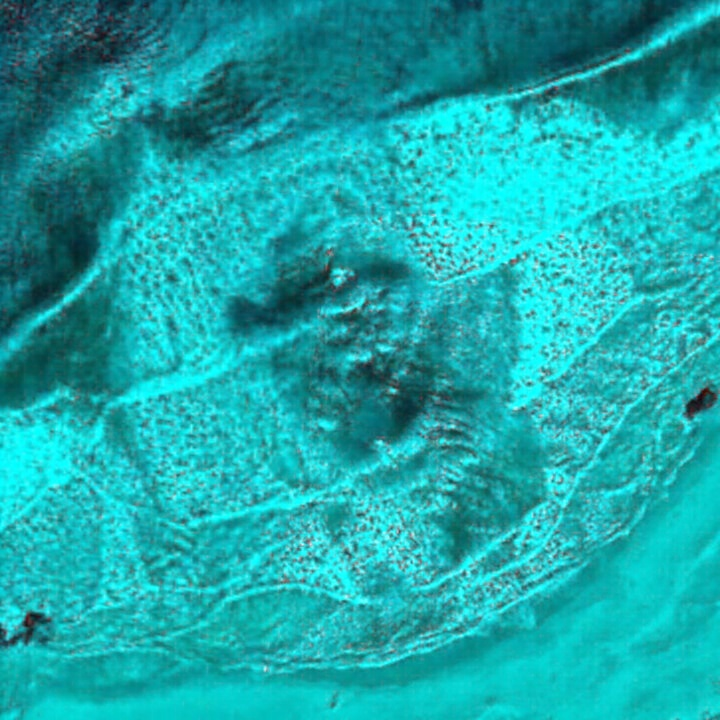rip_current: (148, 74, 558, 578)
